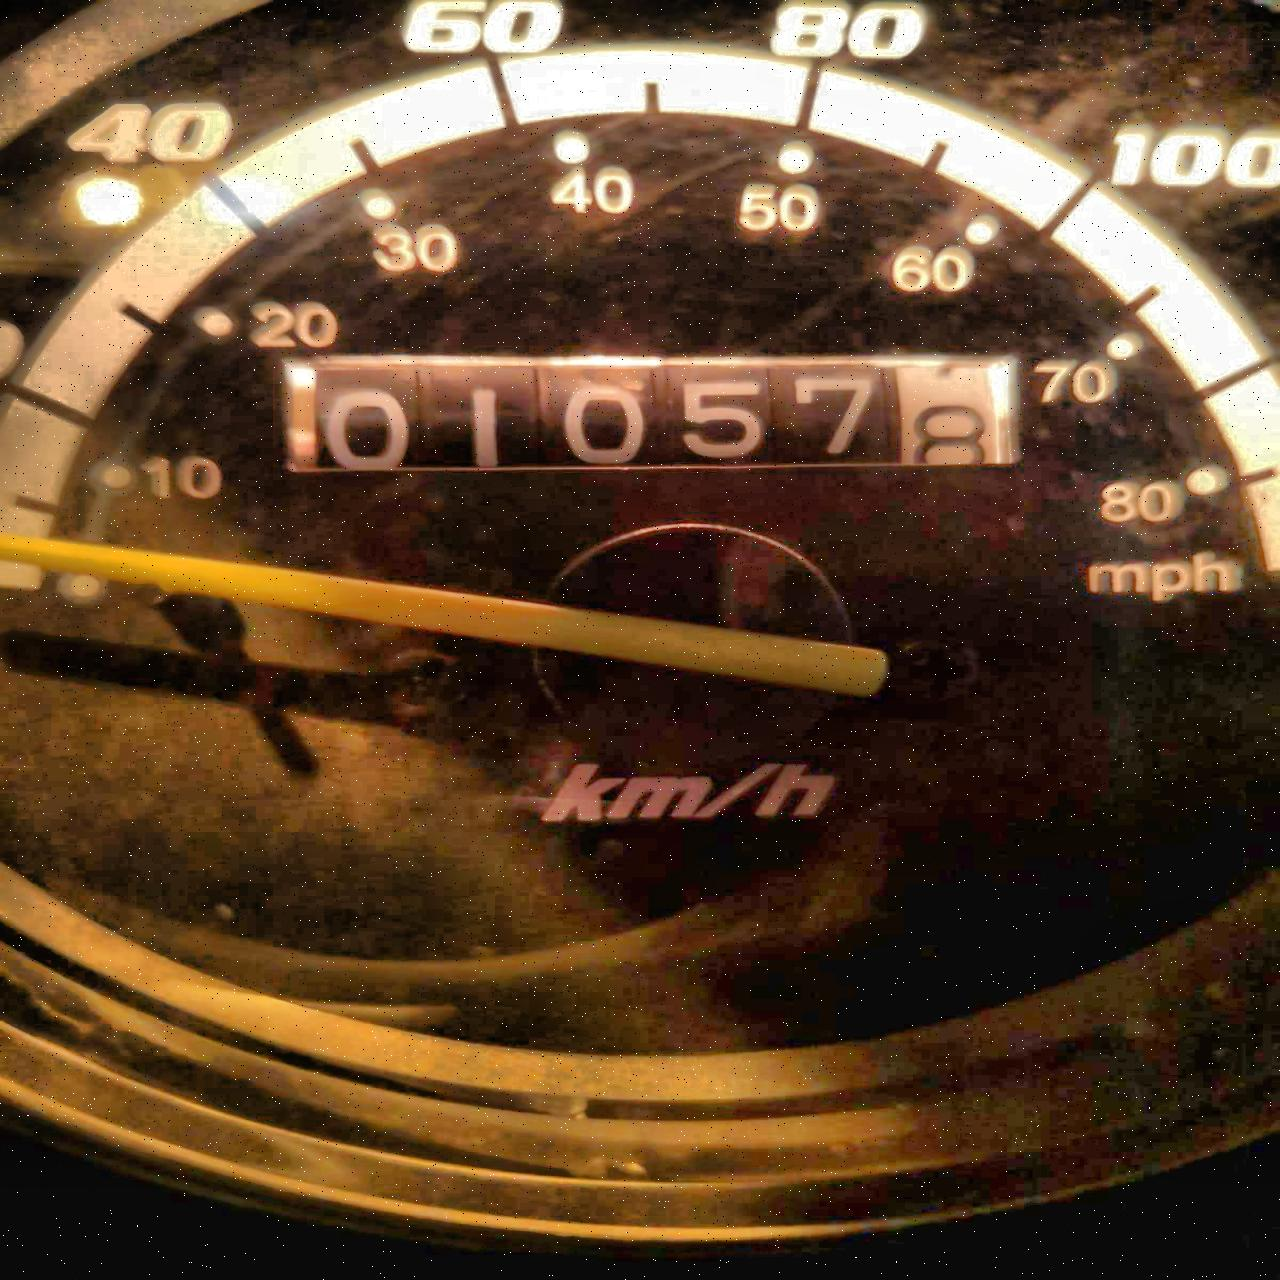0: (552, 373, 647, 476), (320, 382, 414, 476)
1: (445, 372, 525, 476)
5: (667, 375, 769, 463)
7: (787, 370, 879, 458)
8: (899, 394, 1005, 477)
odometer: (268, 349, 1039, 488)
